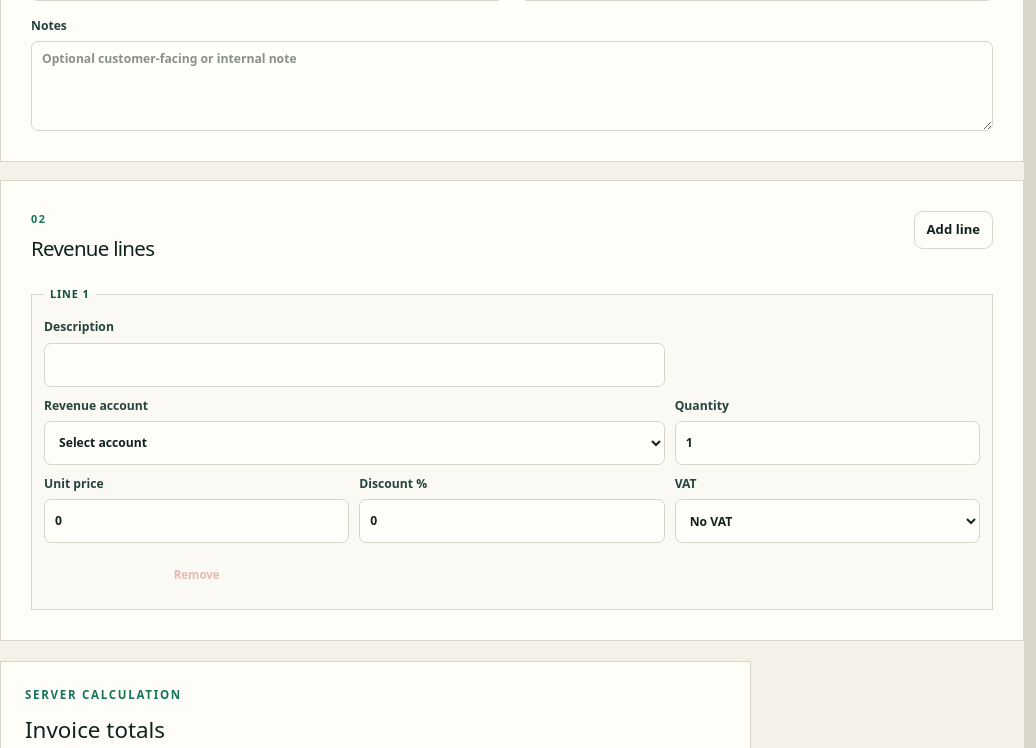
Test: Day 3 invoice editor › previews valid lines before the invoice header is complete
The width and height of the screenshot is (1036, 748).
(page scrolled)
In the field named "Line 1 description": [354, 364] box [44,342,665,386], type "Trekking backpacks"
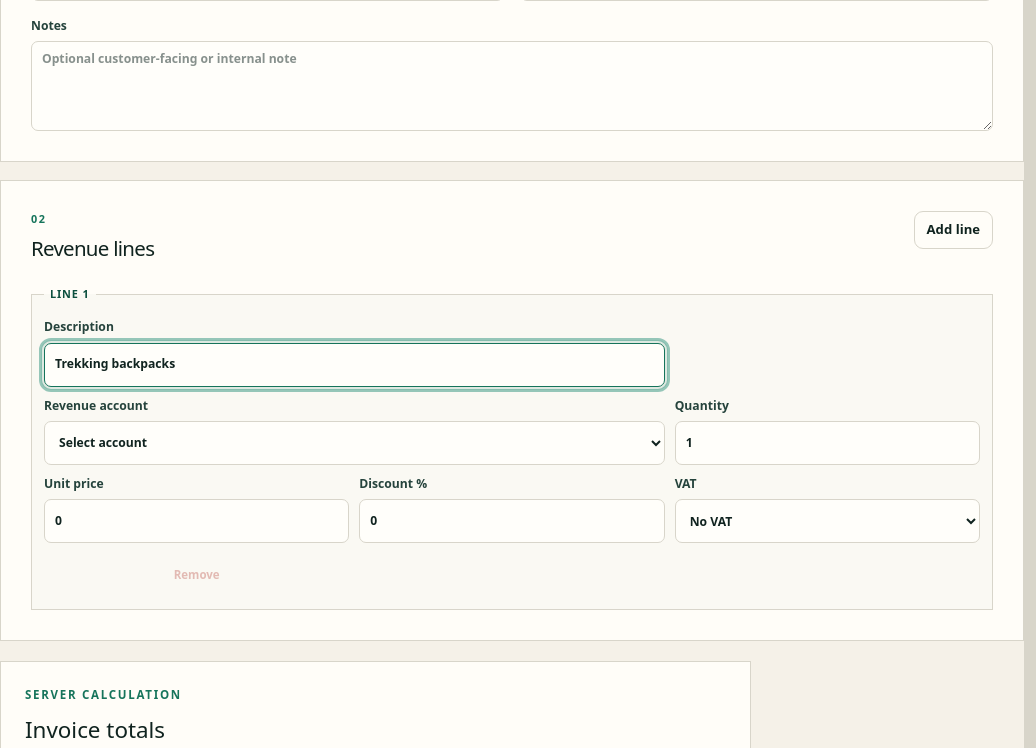
Select "4100 · Sales Revenue" in the dropdown named "Line 1 revenue account": [354, 443] box [44,421,665,465]
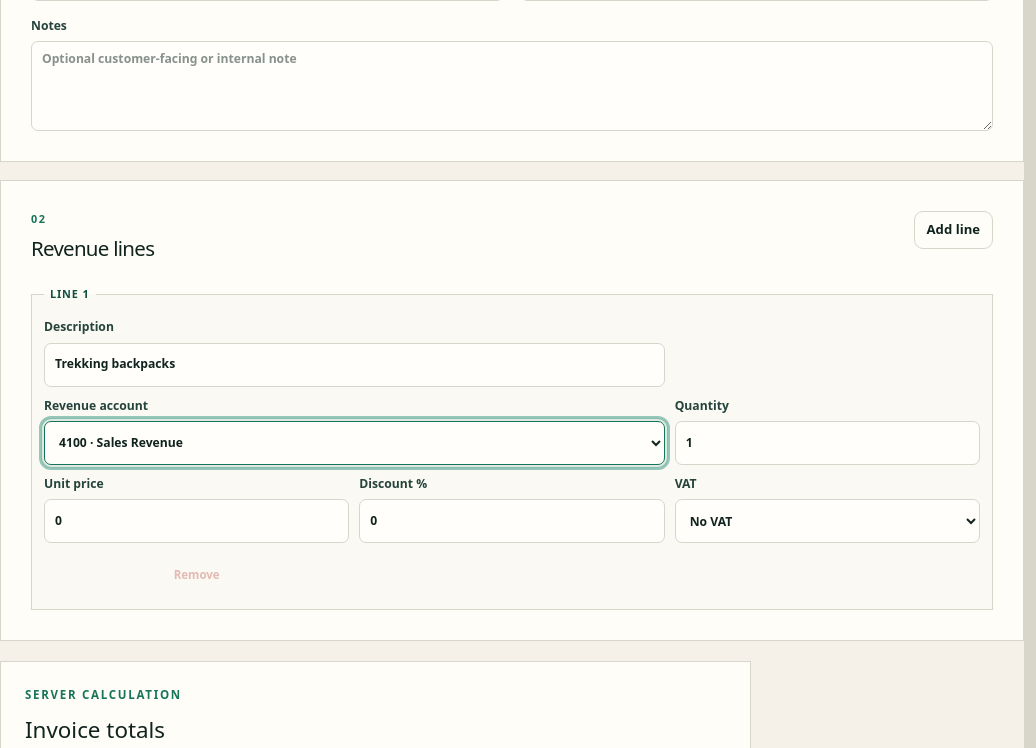
Replace the text in the number field named "Line 1 unit price" with "100000": [197, 521] box [44,499,349,543]
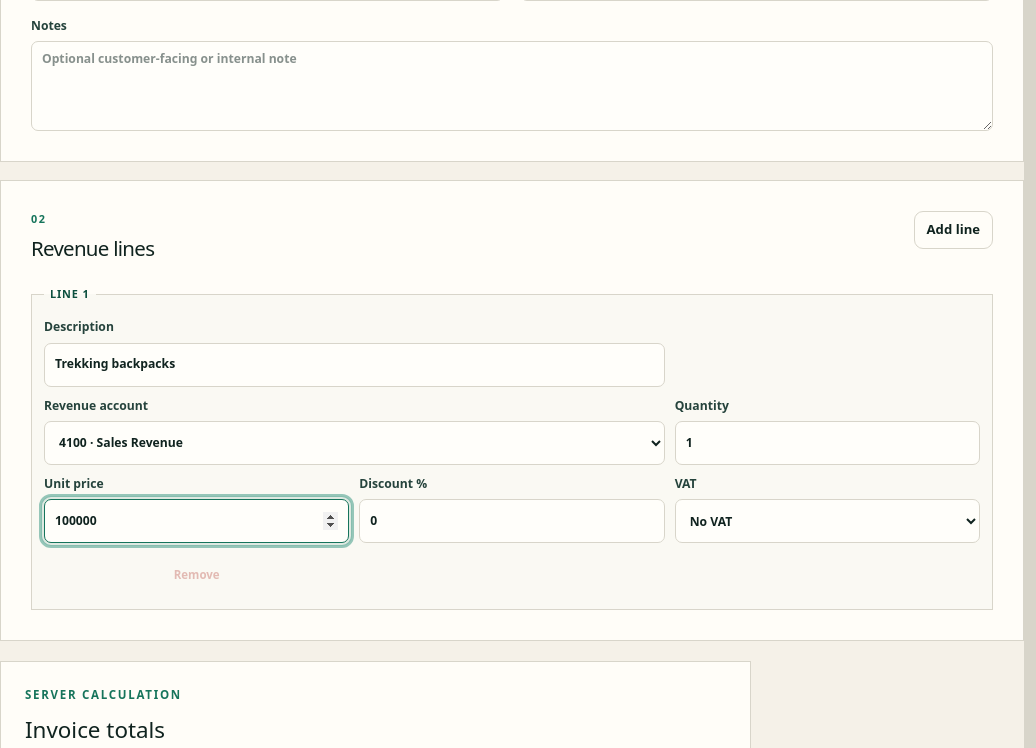
Select "VAT 13%" in the dropdown named "Line 1 VAT": [827, 521] box [675,499,980,543]
(page scrolled)
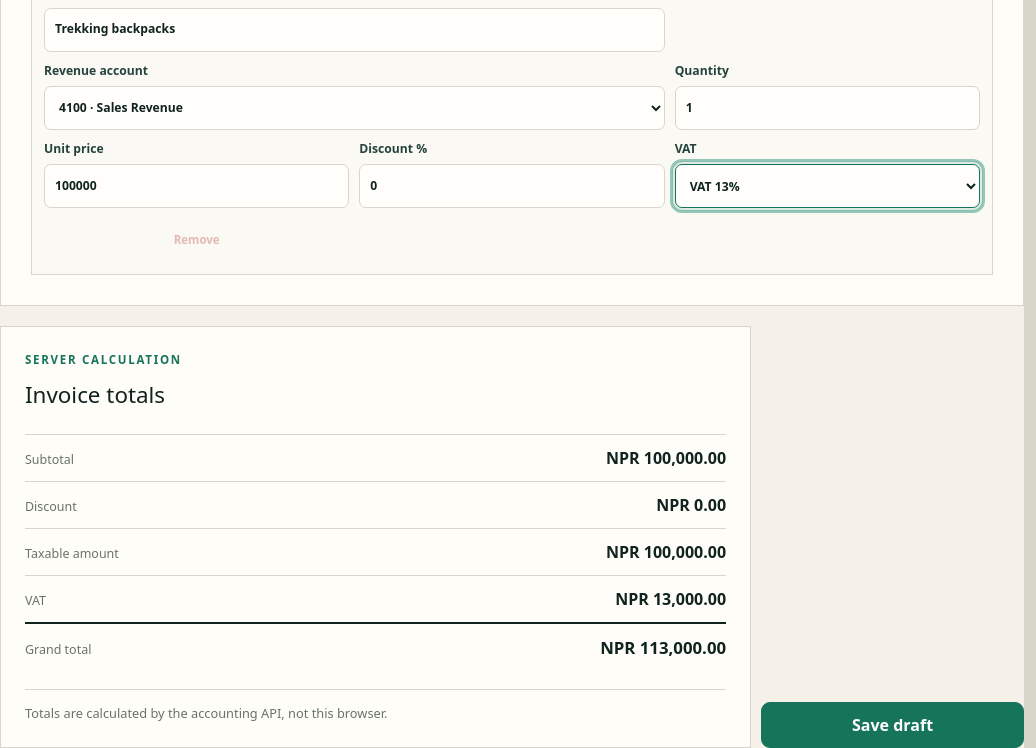
Result: the text "NPR 113,000.00" is shown at [600,636,726,659]
